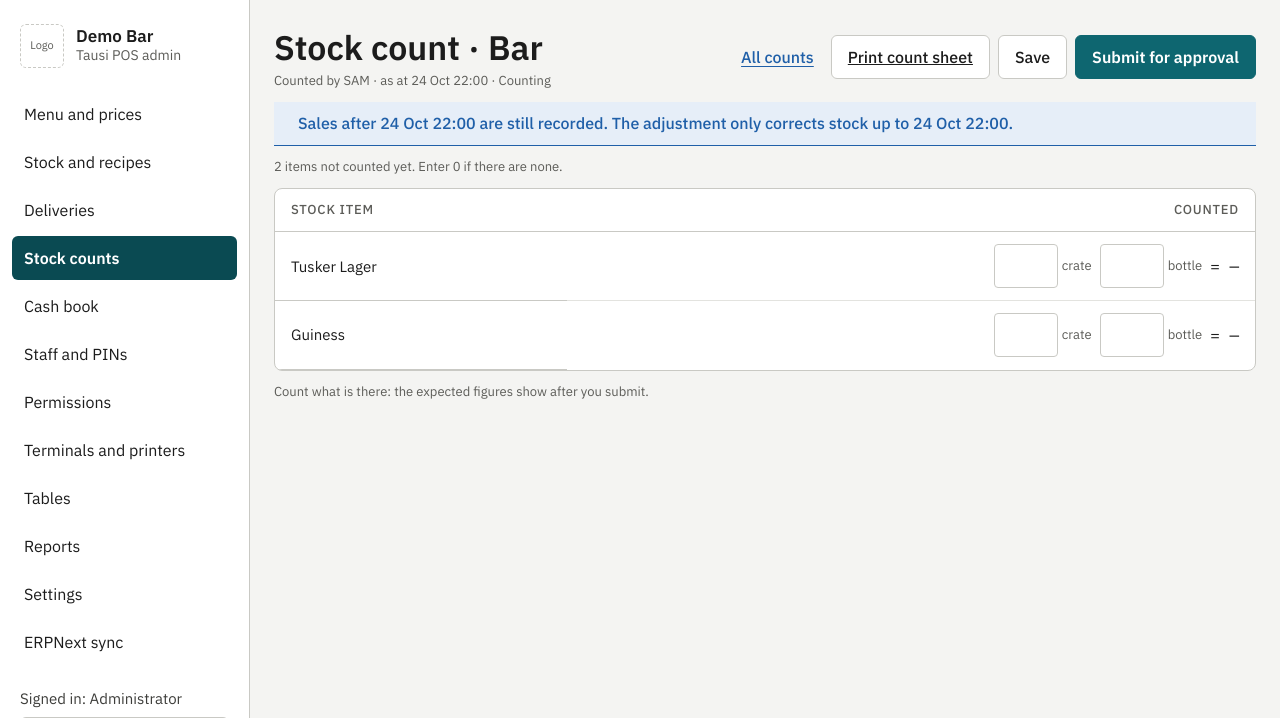
Test: Stock count › is blind while counting, totals packs and bottles, and shows why it can’t be submitted
expect the heading "Stock count · Bar" is shown: met, box [274,24,551,72]
Step 1. Type "3" into the field named "Tusker Lager: number of crate" → (1026, 266), box [994,244,1058,288]
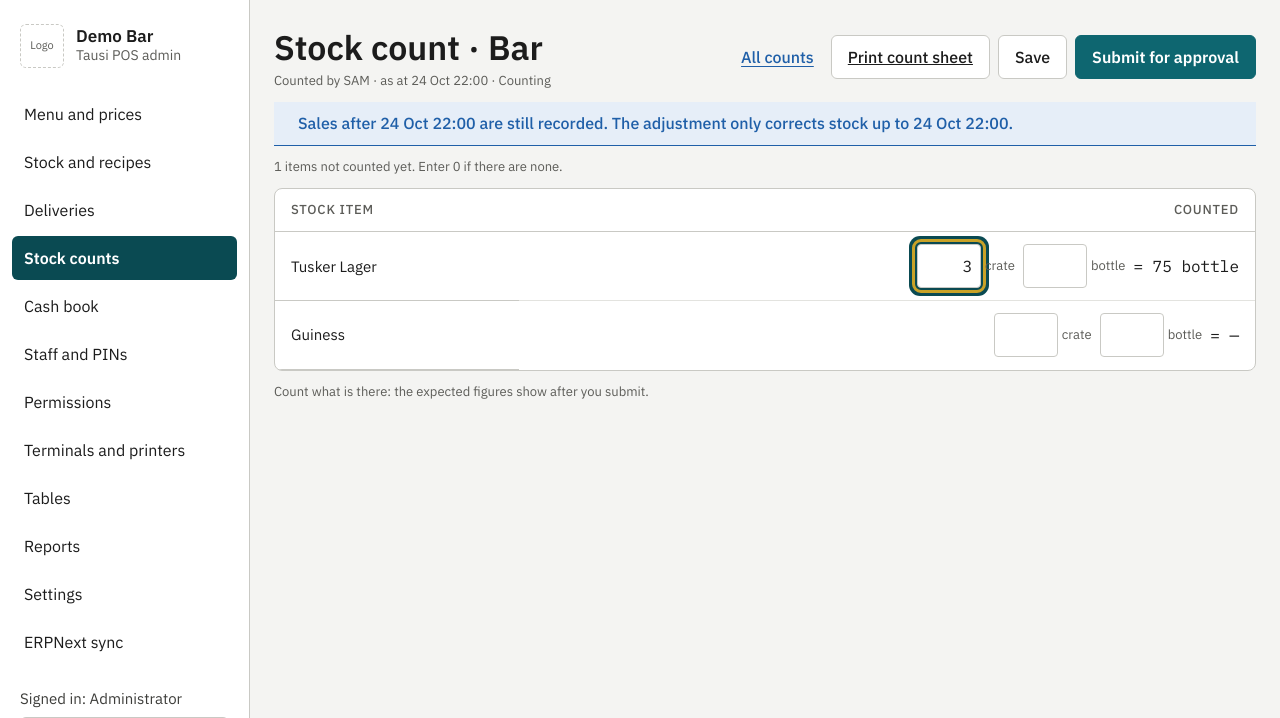
Step 2. Type "7" into the field named "Tusker Lager: number of bottle" → (1055, 266), box [1023,244,1087,288]
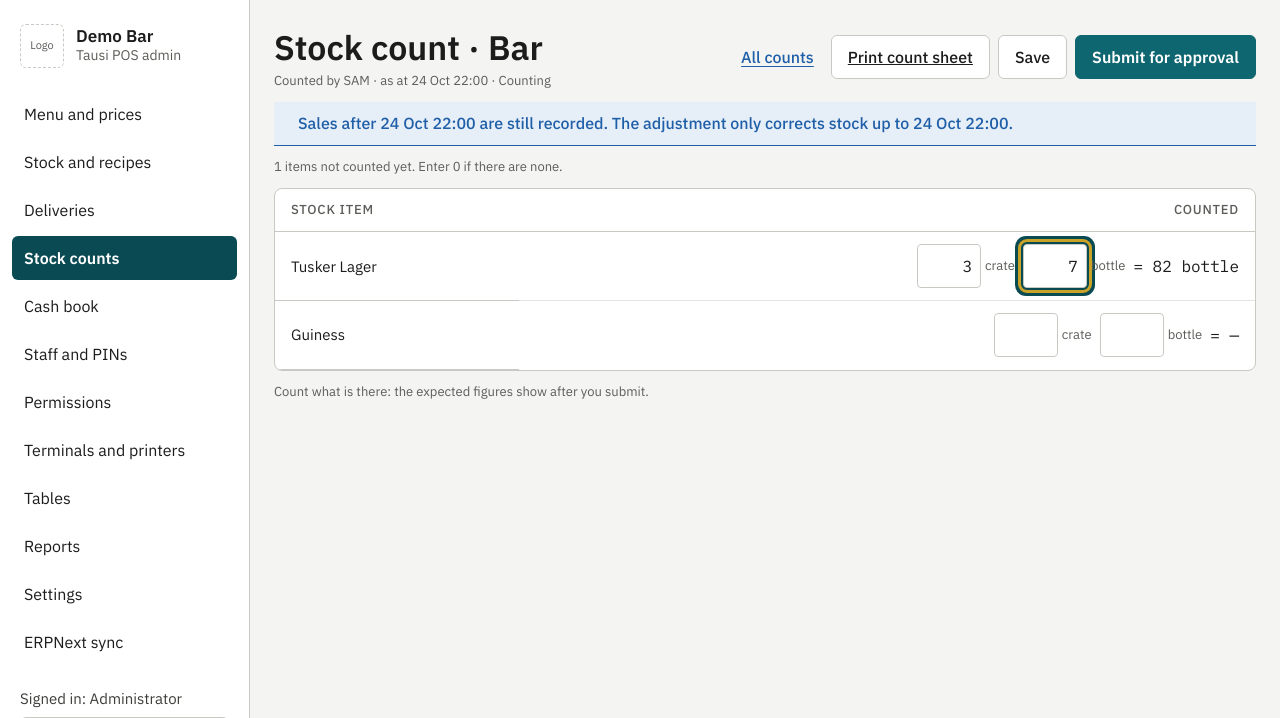
expect the text "1 items not counted yet. Enter 0 if there are none." is shown: met, box [274,158,562,175]
expect the text with test id "count-total-Tusker Lager" reads "= 82 bottle": met, box [1133,255,1239,277]
Step 3. Click the button "Submit for approval" → (1166, 57), box [1075,35,1256,79]
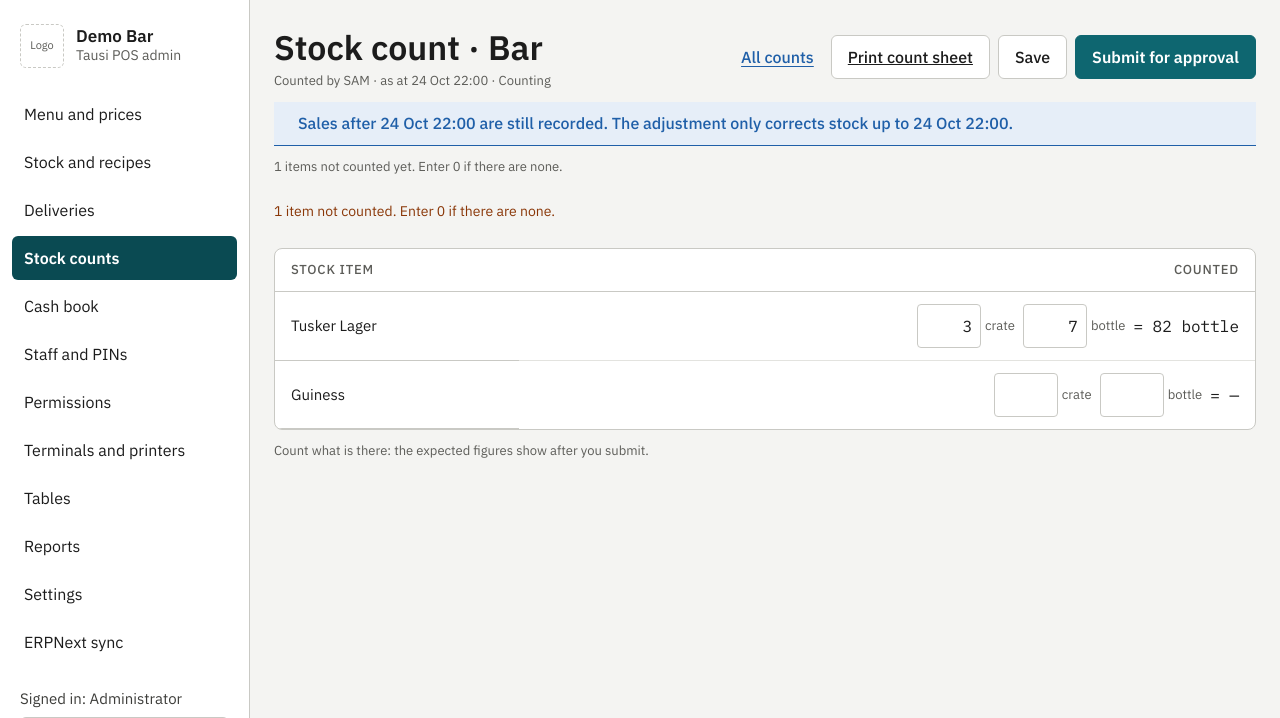
expect the text "1 item not counted. Enter 0 if there are none." is shown: met, box [274,202,555,220]
